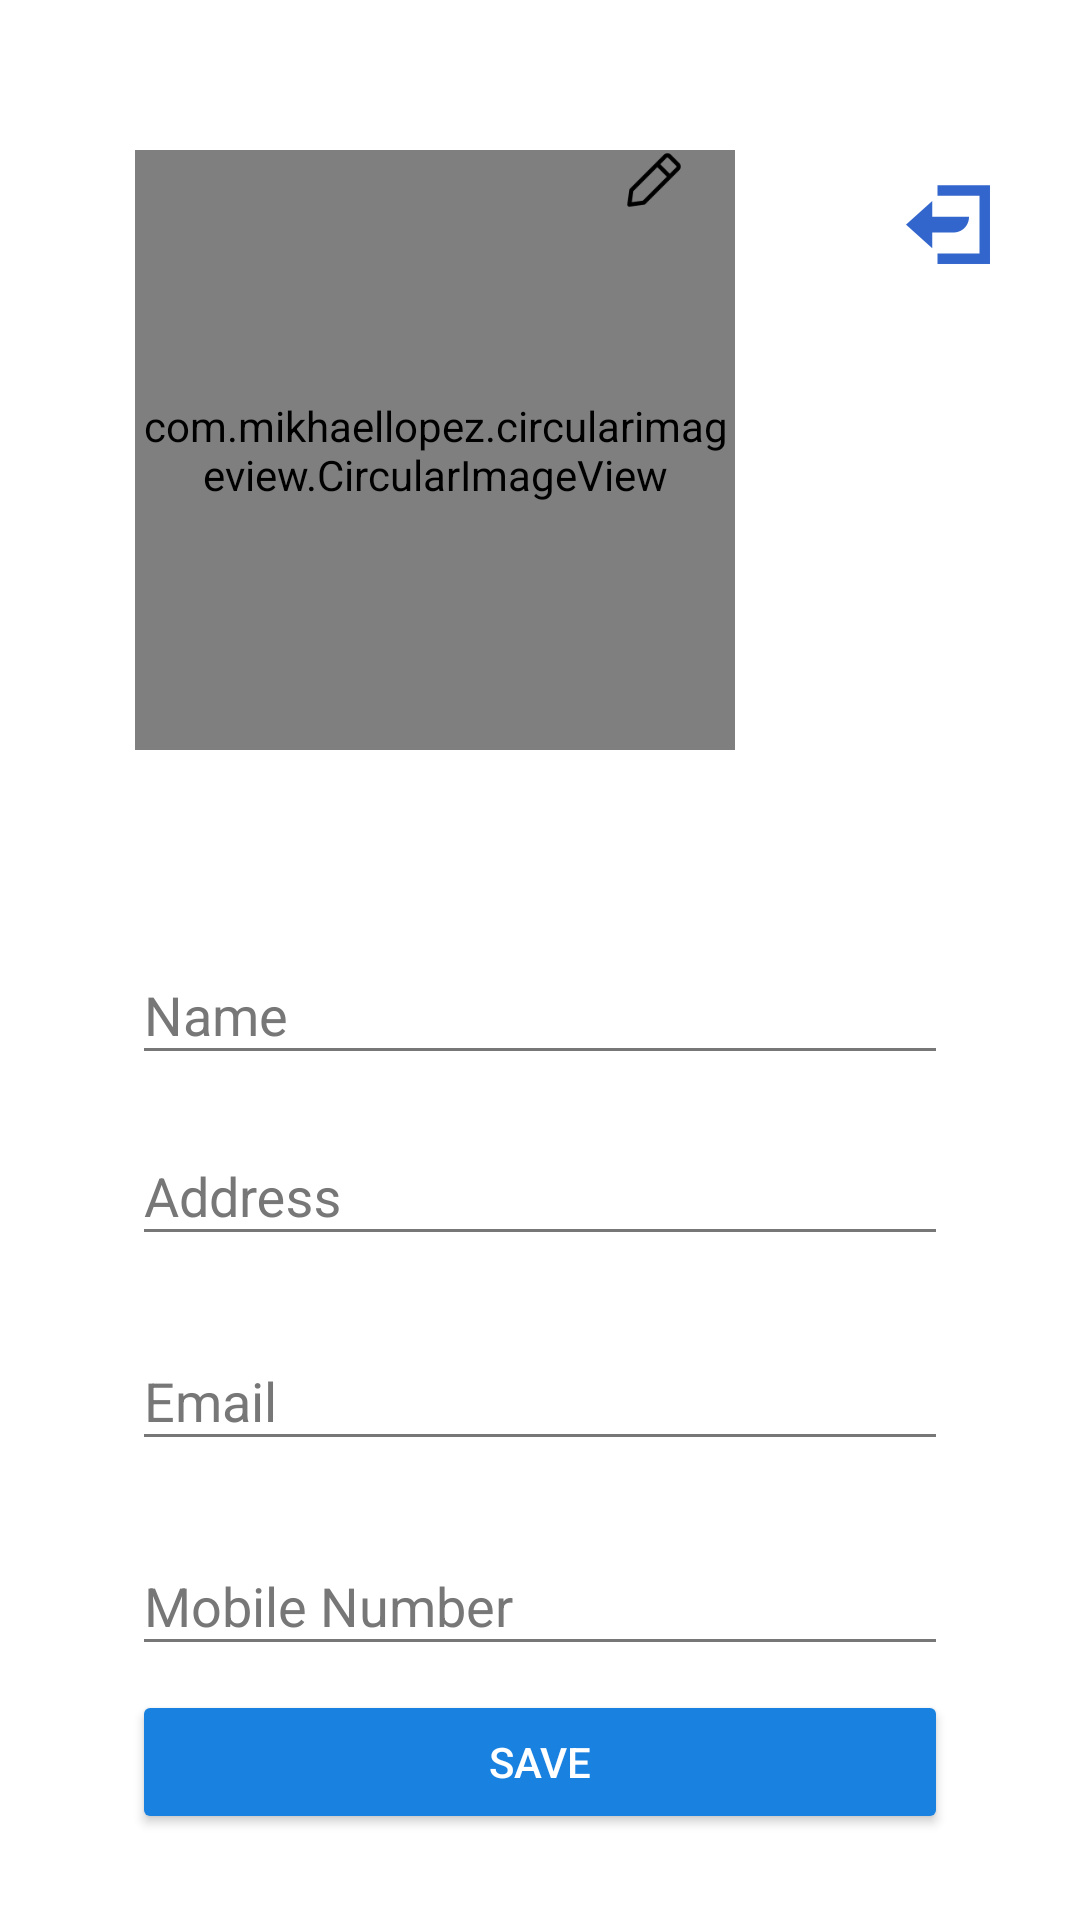

Named icons in this screenshot (1080 x 1920) and their bounding boxes, rect(x1, y1, x2, y2):
edit: rect(627, 153, 681, 207)
